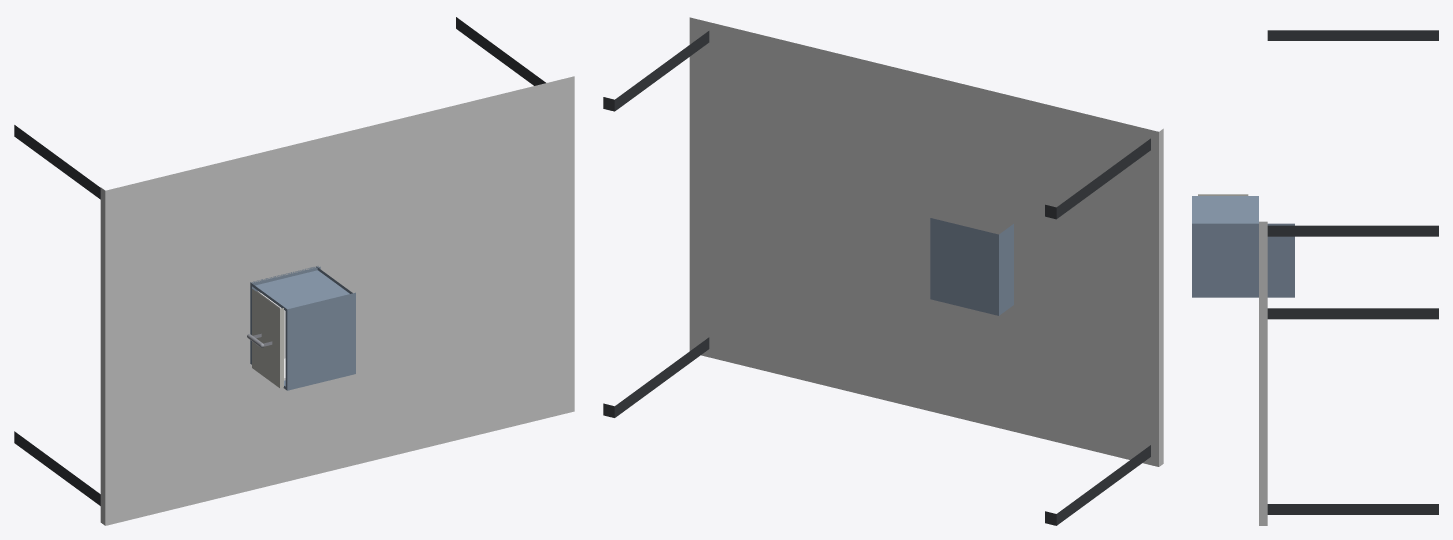
The model's file is t2_c58fbede50.glb.
3 renders of one model, left to right at view 1: azimuth 30°, elevation 25°; view 2: azimuth 150°, elevation 25°; view 3: azimuth 270°, elevation 25°, orthographic. The views are drawn at different scales.
Parts seen in each view (by area): view 1: s0, s1, s2; view 2: s0, s1; view 3: s0, s1.
Part boxes in pixels (box(x1,y1,x2,y2)): s0: box(14, 17, 574, 525); s1: box(250, 266, 355, 390); s2: box(247, 289, 285, 388); s0: box(603, 17, 1163, 525); s1: box(930, 218, 1013, 315); s0: box(1259, 30, 1438, 525); s1: box(1192, 196, 1294, 297).
Size of the model in its own units: 2.05 by 1.4 by 1.03.
